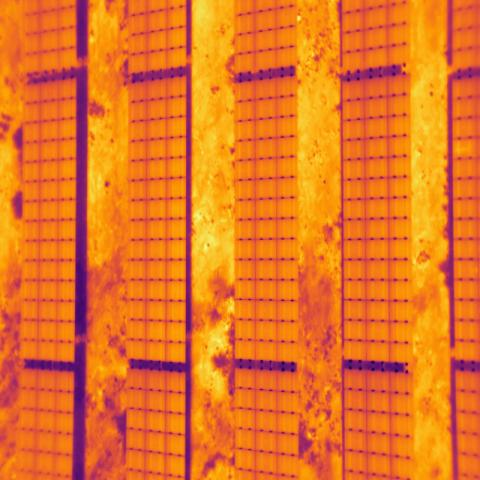fault: (452, 137, 476, 159)
